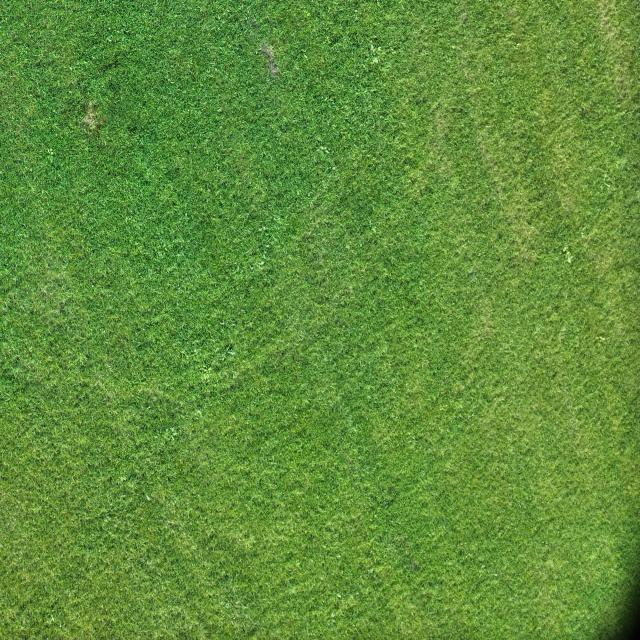rumex: (296, 254, 366, 328), (379, 526, 434, 608), (423, 87, 486, 157), (125, 246, 175, 302), (299, 188, 344, 246), (199, 328, 245, 378), (361, 478, 399, 519), (326, 591, 364, 631), (308, 141, 339, 183), (323, 18, 347, 49), (238, 2, 260, 32), (228, 258, 252, 279), (195, 4, 212, 29), (368, 42, 385, 66), (505, 6, 524, 27), (576, 104, 596, 122), (372, 564, 391, 577), (126, 124, 140, 137), (562, 246, 572, 264), (200, 369, 212, 383), (625, 58, 637, 70), (348, 424, 358, 438), (220, 570, 230, 584), (414, 96, 428, 106), (166, 428, 176, 440), (430, 528, 440, 540), (38, 286, 48, 297), (79, 58, 88, 70), (388, 47, 398, 57), (144, 558, 154, 568), (76, 354, 85, 365), (315, 136, 323, 148), (307, 531, 315, 543), (180, 348, 189, 358), (441, 246, 450, 256), (370, 42, 378, 53), (230, 191, 238, 202), (596, 335, 605, 344), (319, 147, 329, 155), (303, 10, 311, 20), (118, 475, 126, 484), (328, 618, 336, 627), (510, 8, 519, 16), (302, 52, 309, 62), (48, 614, 55, 624), (218, 199, 225, 209), (617, 161, 625, 169), (478, 566, 486, 574), (257, 260, 264, 268), (602, 174, 609, 182), (195, 410, 202, 418), (346, 594, 354, 601), (167, 384, 174, 392), (48, 149, 54, 158), (368, 220, 374, 229), (469, 267, 475, 276), (104, 515, 110, 524), (368, 568, 375, 575), (106, 36, 112, 44), (371, 226, 377, 234), (604, 181, 610, 189), (563, 246, 569, 254), (580, 231, 586, 239), (144, 493, 150, 501), (26, 412, 34, 418), (330, 610, 336, 618), (203, 138, 210, 144), (336, 553, 342, 560), (514, 42, 520, 48), (336, 593, 342, 599), (230, 321, 235, 328), (371, 90, 376, 96), (59, 622, 63, 629), (266, 243, 270, 249), (107, 27, 111, 32)
